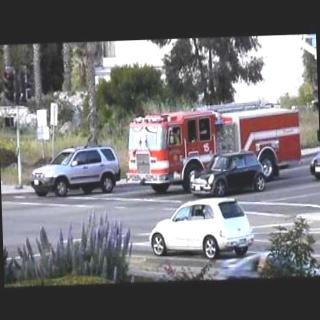Fire_truck: (122, 99, 303, 194)
